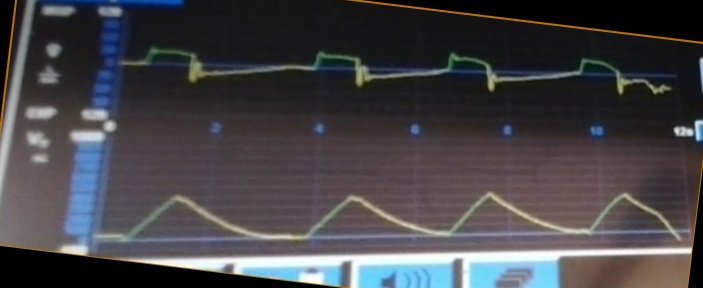Premature_cycling Flow: (124, 41, 669, 117)
Premature_cycling Volume: (104, 182, 684, 245)
